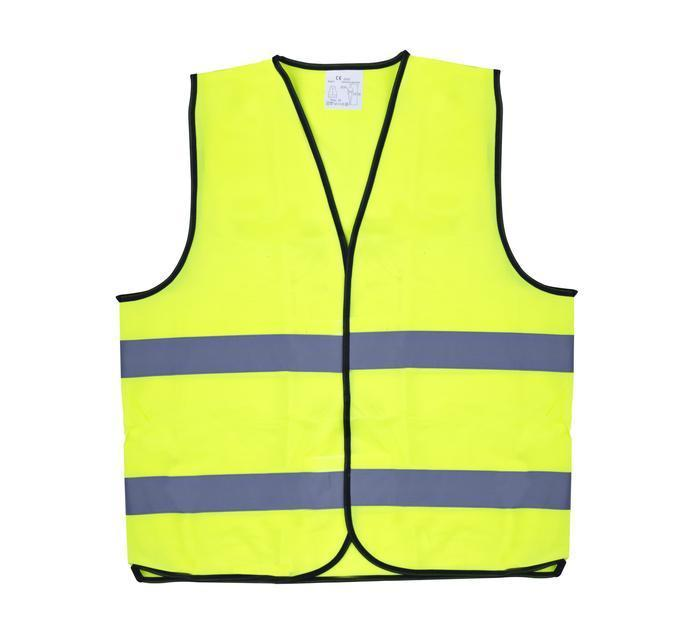vest: (110, 45, 581, 587)
